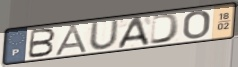A: (52, 23, 91, 57), (116, 15, 152, 50)
B: (26, 27, 58, 60)
D: (149, 12, 182, 46)
O: (182, 9, 212, 40)
U: (88, 19, 120, 51)
